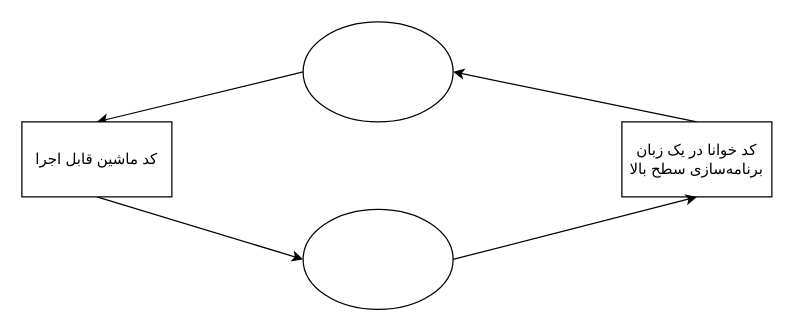
Image size: 794x331. Some labels were removed from this diagram. The box of each missing label's shape, as (x1, y1, x2, y2) in pixels:
مترجم: (302, 21, 453, 122)
مترجم معکوس: (302, 208, 453, 309)
